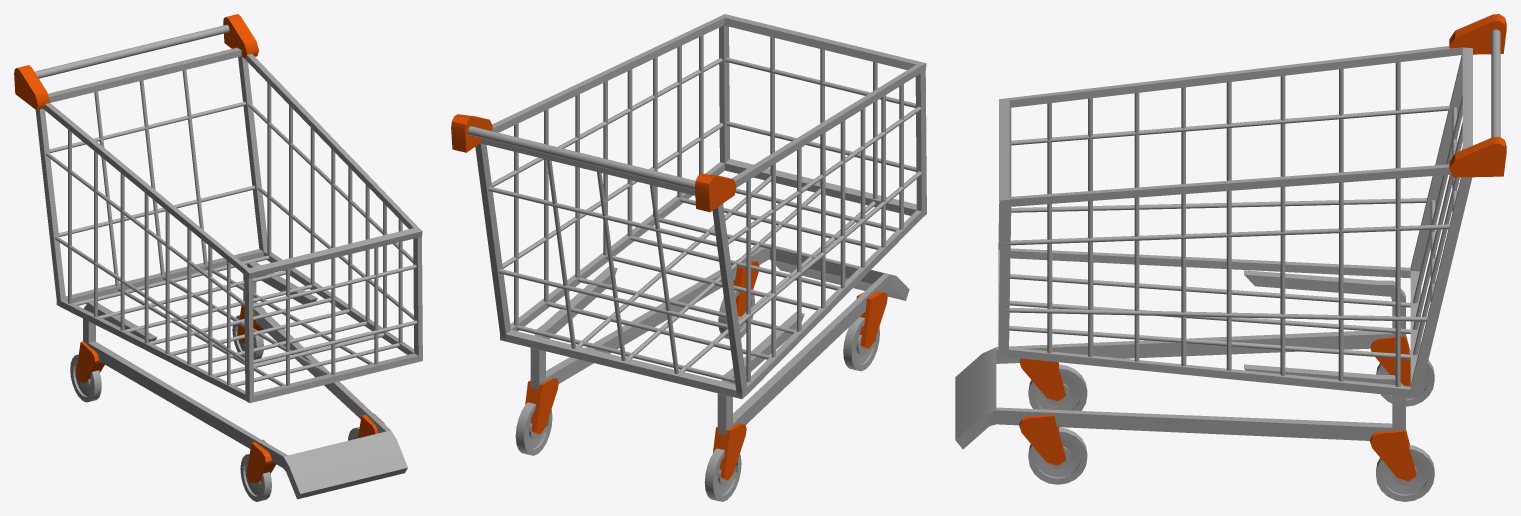
Rendered from objTrolley.fbx.
3 views of the same model, side by side, from view 1: azimuth 30°, elevation 25°; view 2: azimuth 150°, elevation 25°; view 3: azimuth 270°, elevation 25° (orthographic). The views are drawn at different scales.
Visible parts, largest first — view 1: objTrolley:objTrolley; view 2: objTrolley:objTrolley; view 3: objTrolley:objTrolley.
Part boxes in pixels (box(x1,y1,x2,y2)): objTrolley:objTrolley: box(14, 14, 422, 501); objTrolley:objTrolley: box(451, 14, 926, 501); objTrolley:objTrolley: box(955, 14, 1506, 501).
Size of the model in its own units: 0.862 by 1.16 by 1.55.
